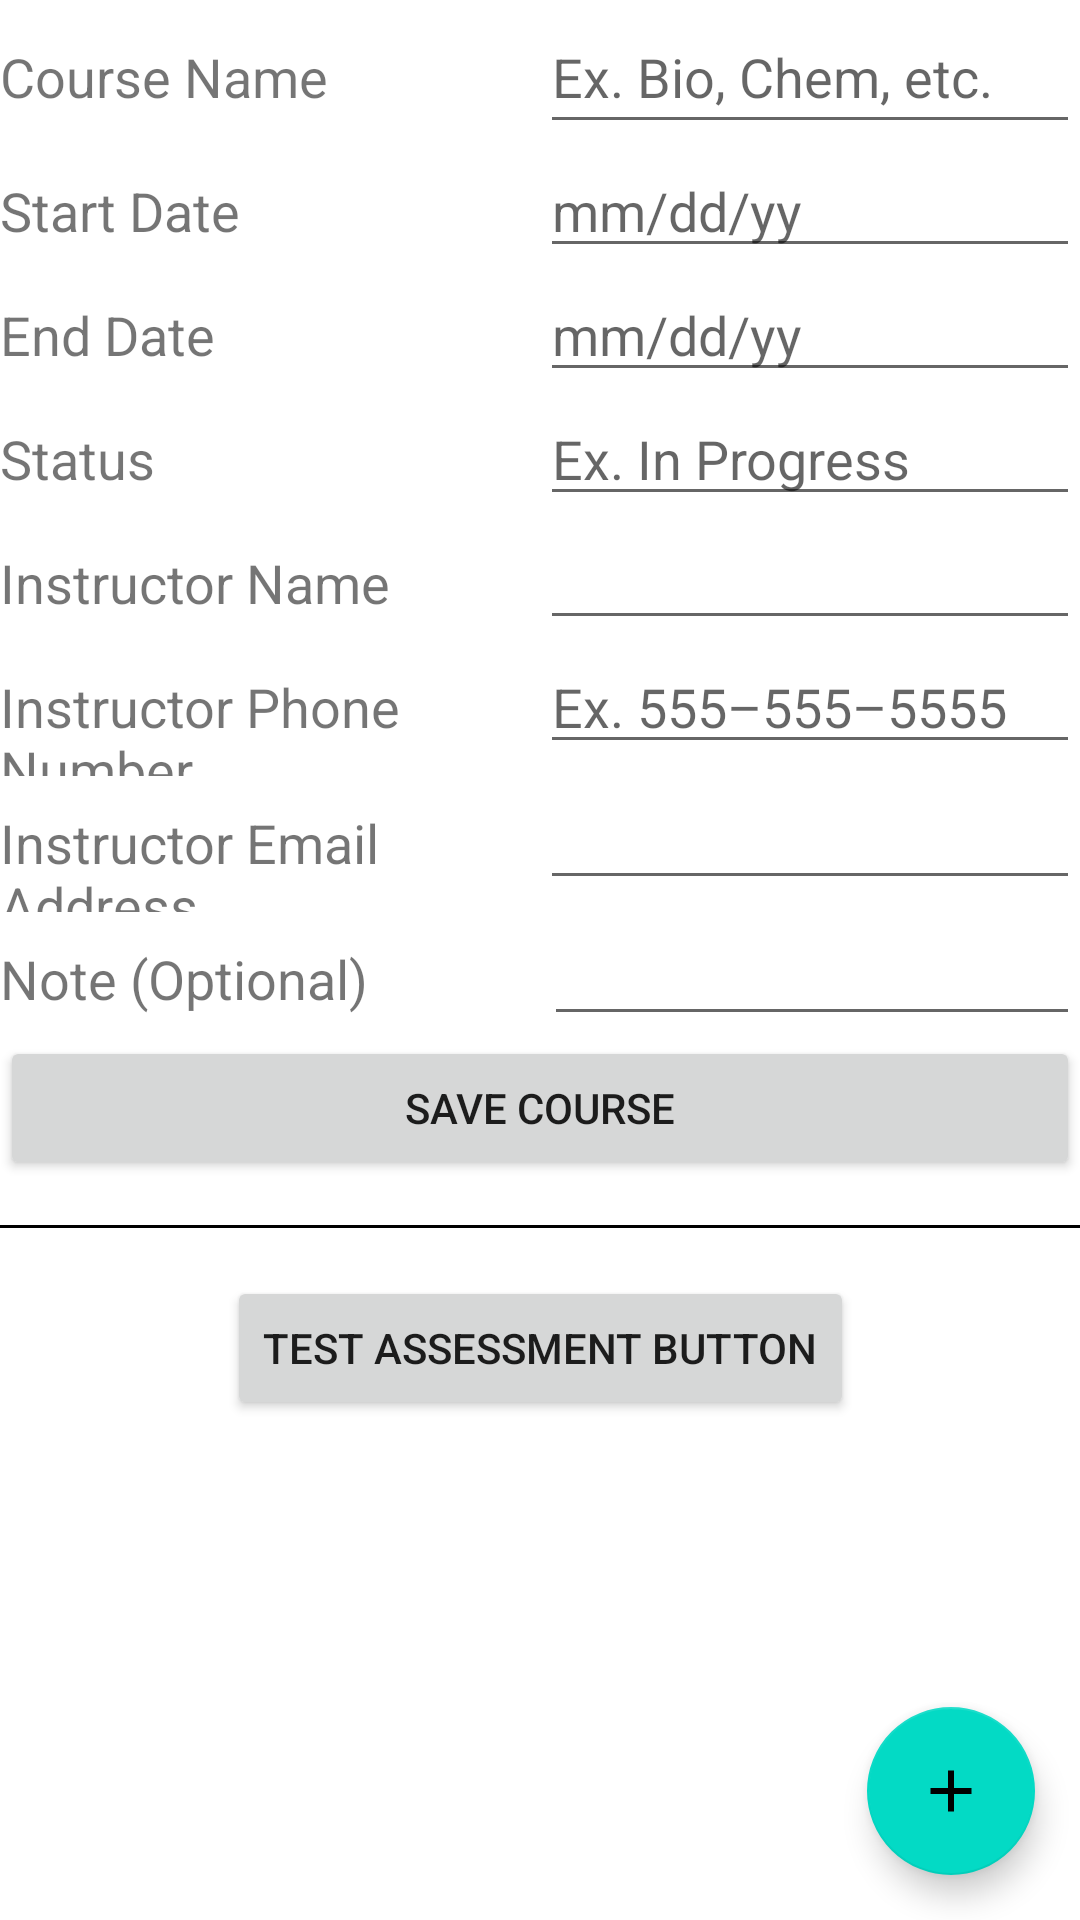

Icon click points for this 1080w x 1920h phone screenshot, format [x,y]:
Add Assessment: [951,1791]
